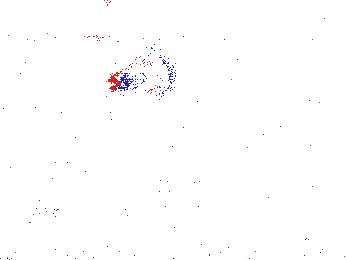flame jellyfish: (146, 151, 208, 224), (3, 167, 77, 222), (107, 51, 179, 102)
